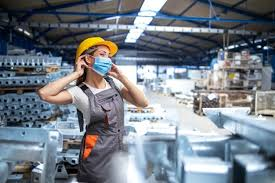Helmet: (74, 38, 117, 54)
Mask: (86, 57, 114, 75)
No-jacket: (69, 87, 134, 183)
